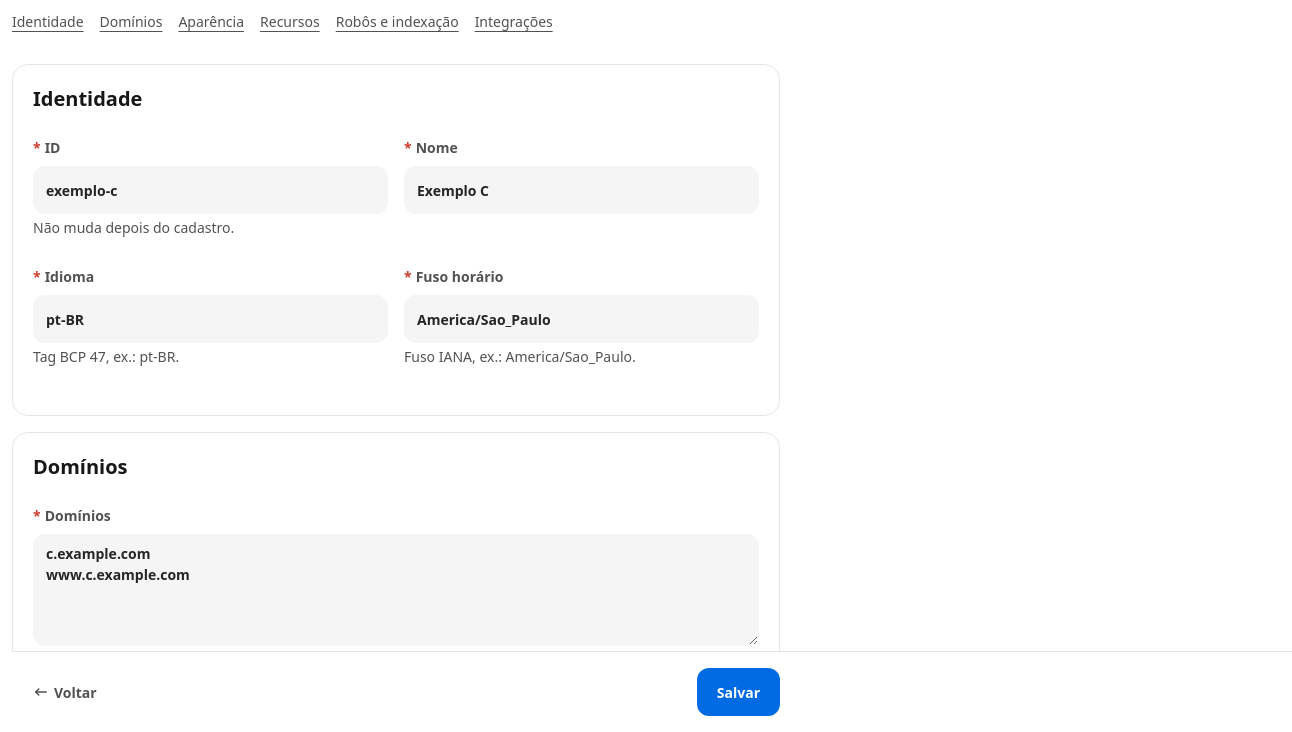
Test case: formulário da configuração do site › a recusa do domínio vai para o campo do path, com foco, e a mensagem para o resumo
Click the button "Salvar" at (738, 692), box top-left (697, 668), bottom-right (780, 716)
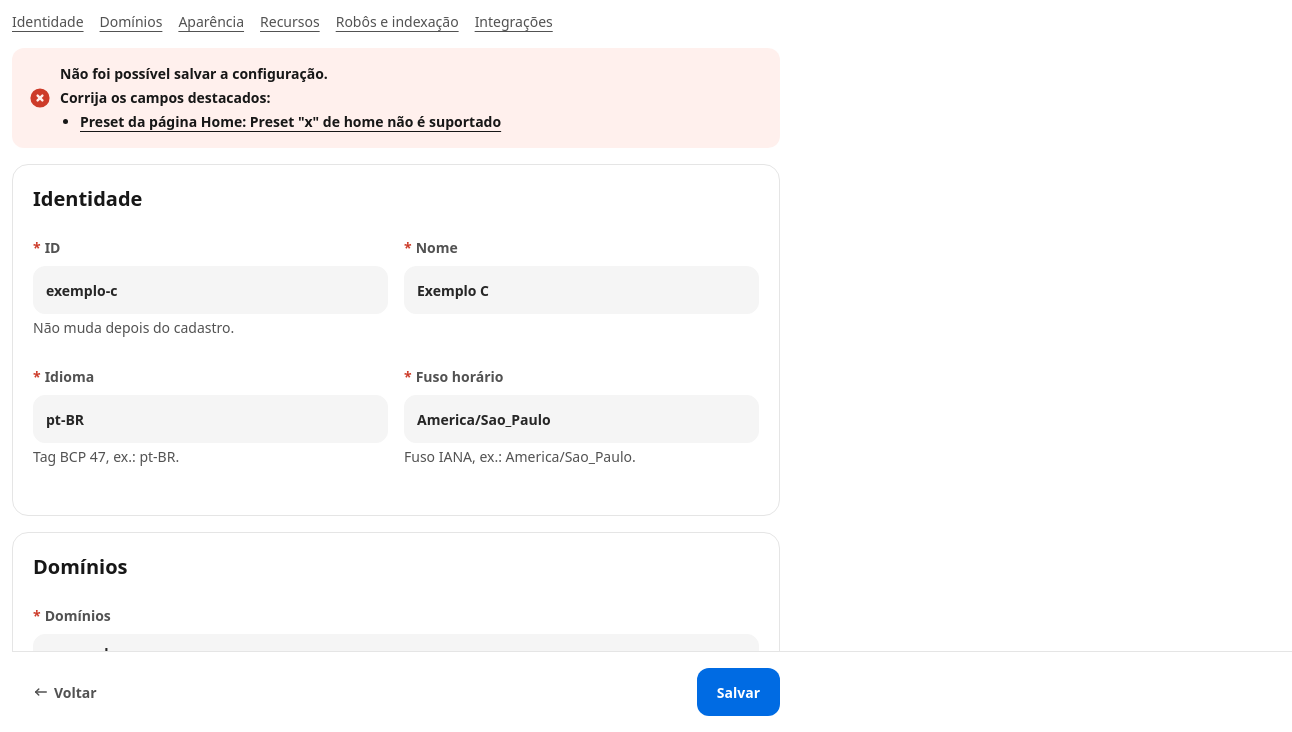
expect the message shows "Não foi possível salvar a configuração.": met, box top-left (60, 64), bottom-right (328, 83)
